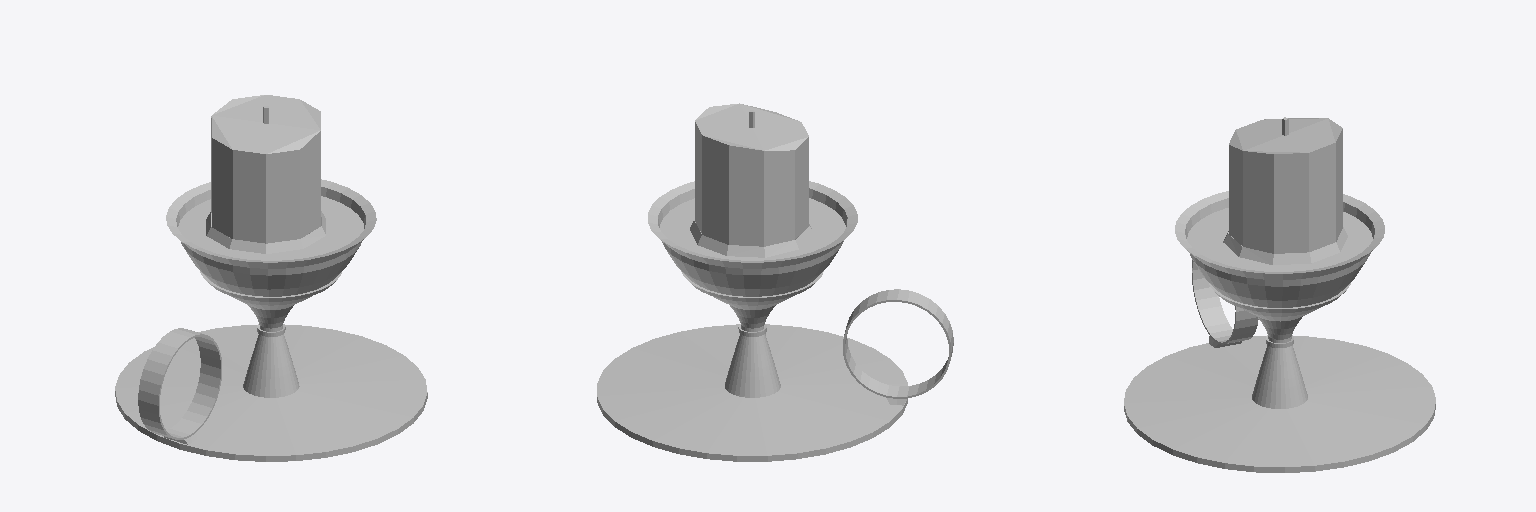
The model's file is candelabro.obj.
3 renders of one model, left to right at view 1: azimuth 30°, elevation 25°; view 2: azimuth 150°, elevation 25°; view 3: azimuth 270°, elevation 25°, orthographic.
Visible parts, largest first — view 1: Vela.001_Cilindro.001; view 2: Vela.001_Cilindro.001; view 3: Vela.001_Cilindro.001.
Part boxes in pixels (x1,y1,x2,y2): Vela.001_Cilindro.001: (115, 95, 427, 461); Vela.001_Cilindro.001: (597, 103, 953, 461); Vela.001_Cilindro.001: (1124, 117, 1435, 472).
Bounding box in the file's own units: 0.4526 × 0.4127 × 0.4065.